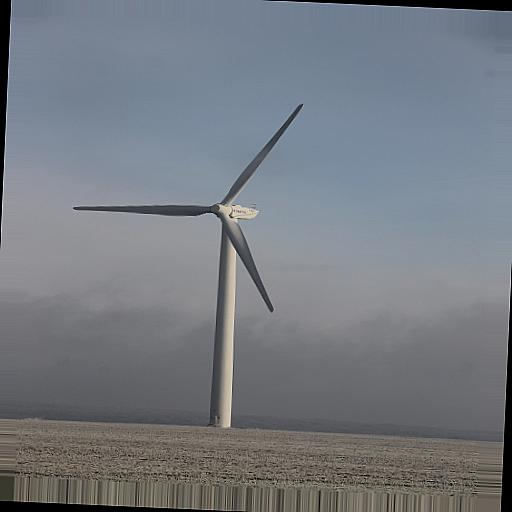wind turbine: (70, 103, 306, 425)
